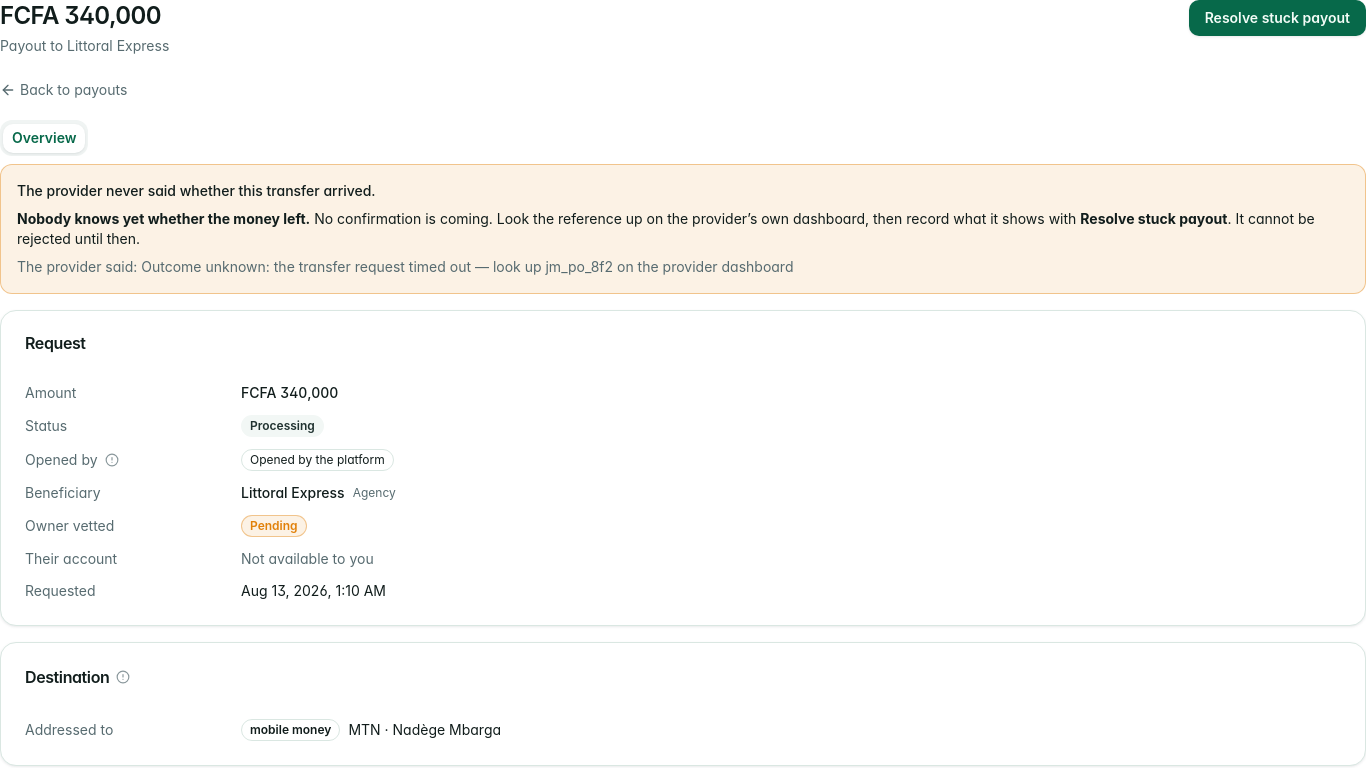
Scenario: which outcomes are offered › offers a mark_paid holder without triage only "paid"
This screenshot has width=1366, height=768.
Click the button "Resolve stuck payout". click: coordinates (1277, 18)
box: [1189,0,1365,36]
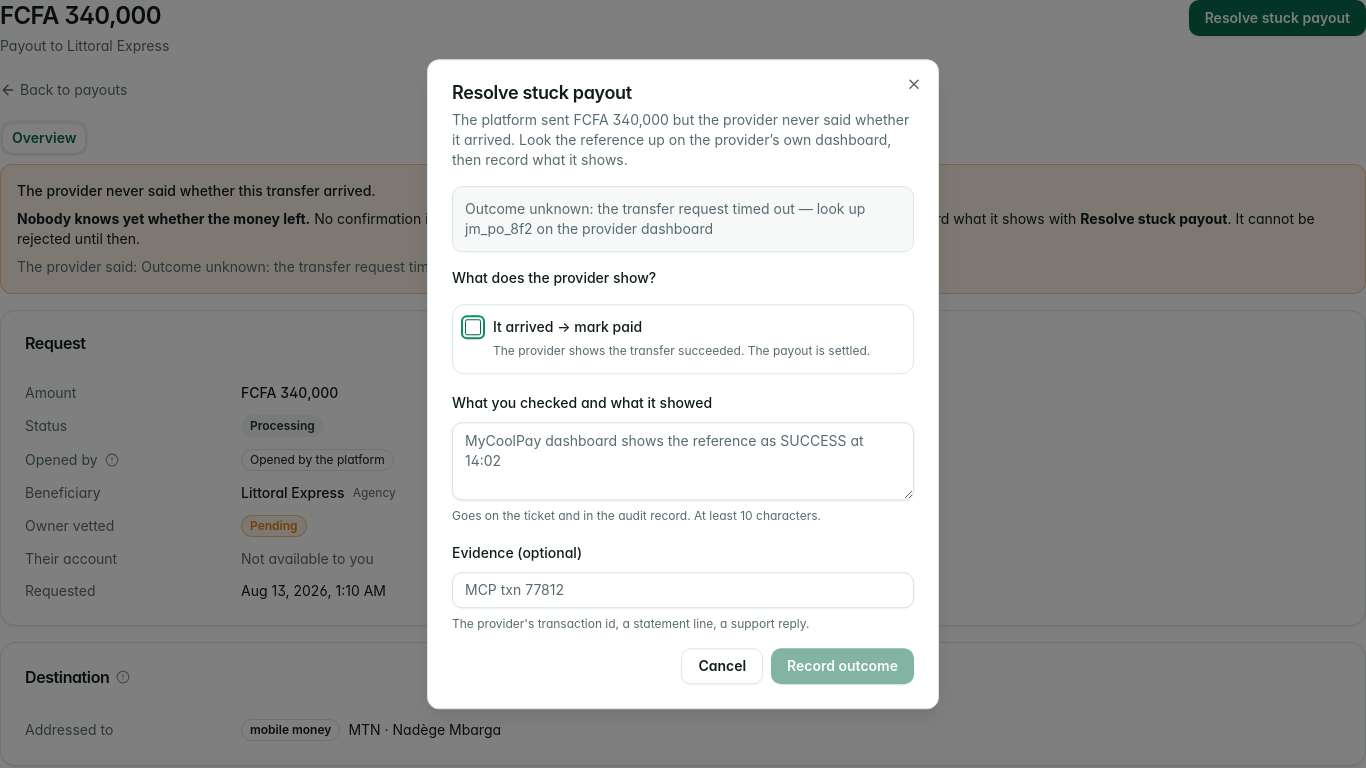
Result: the radio button named "it arrived" is shown at [465,319,481,335]
